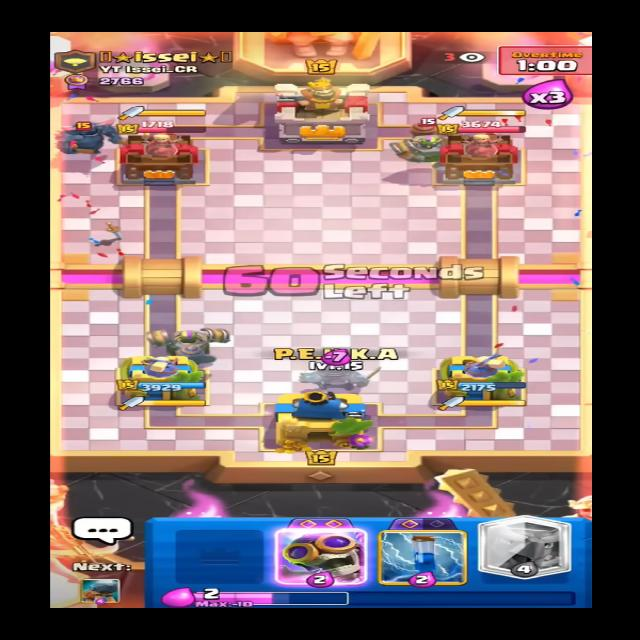Goblinmachine: (382, 113, 484, 164)
Pekka: (52, 118, 127, 157)
